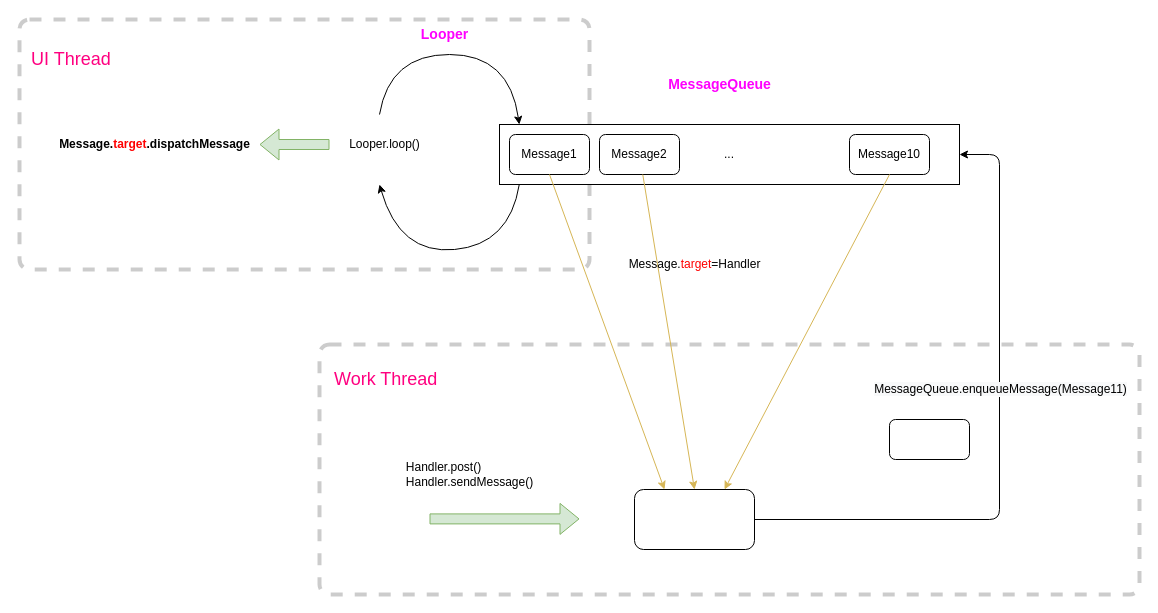
Some shapes in this 1158 by 613 pixel diagram are drawn without their labels. Each missing label, with the centre of its shape:
"Handler" goes at point 694,519.
"Message11" goes at point 929,439.
